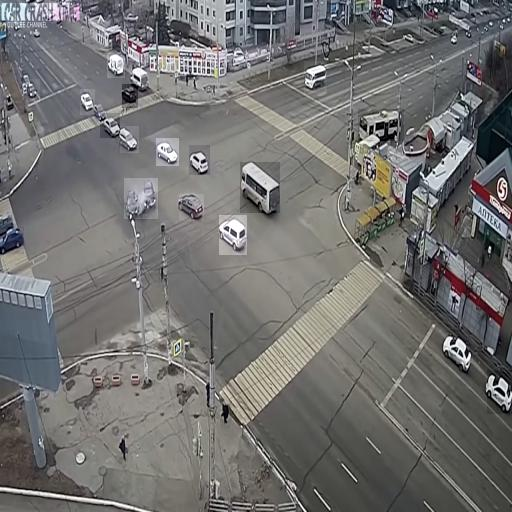小汽车: (240, 162, 280, 213), (358, 109, 404, 141), (219, 215, 247, 255), (445, 330, 470, 374), (487, 370, 512, 414), (304, 61, 327, 93), (179, 194, 204, 221), (0, 227, 24, 254), (156, 138, 179, 166), (189, 145, 210, 175), (130, 63, 152, 88), (120, 126, 139, 153), (100, 113, 120, 138), (107, 53, 125, 78), (80, 89, 95, 115), (122, 84, 138, 108), (26, 79, 40, 102)
小汽车撞小汽车: (124, 178, 158, 219)
